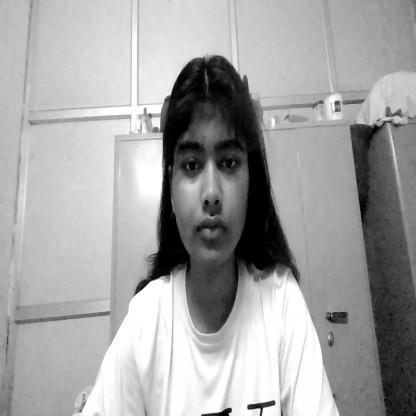Normal: (166, 57, 264, 278)
